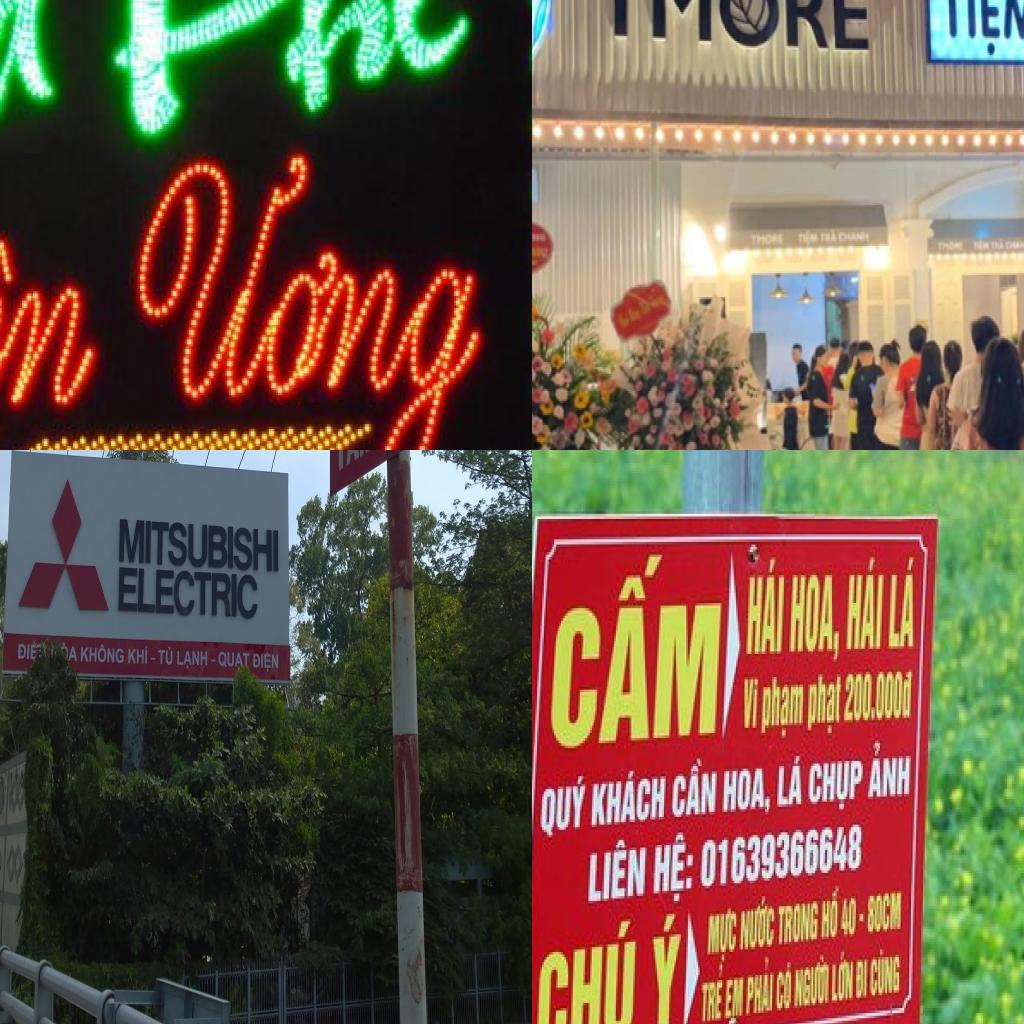text: (116, 131, 497, 450), (98, 0, 492, 148), (544, 542, 726, 753), (0, 162, 96, 450), (589, 0, 872, 56), (700, 822, 865, 893), (533, 919, 640, 1024), (117, 516, 280, 575), (117, 566, 259, 620), (932, 0, 1024, 58), (589, 766, 669, 832), (789, 570, 842, 669), (842, 547, 887, 656), (645, 911, 688, 1024), (584, 835, 648, 909), (744, 555, 788, 659), (842, 667, 914, 725), (806, 751, 866, 817), (537, 771, 588, 843), (669, 753, 719, 822), (652, 830, 696, 908), (757, 672, 806, 740), (888, 552, 920, 651), (864, 738, 912, 804), (721, 764, 772, 820), (806, 667, 846, 738), (704, 906, 740, 967), (793, 952, 830, 1011), (741, 894, 777, 954), (744, 952, 776, 1018), (779, 896, 820, 947), (866, 888, 904, 937), (774, 751, 804, 812), (701, 962, 727, 1024), (818, 883, 842, 942), (830, 947, 854, 1005), (741, 672, 762, 735), (334, 450, 377, 476), (80, 642, 124, 665), (777, 962, 794, 1016), (842, 894, 860, 940), (726, 975, 744, 1021), (176, 648, 209, 671), (854, 954, 870, 1000), (252, 650, 280, 674), (218, 650, 250, 670), (748, 234, 788, 249), (794, 230, 821, 250), (838, 231, 872, 246), (128, 644, 150, 667), (16, 639, 38, 661), (935, 241, 966, 256), (157, 645, 174, 668), (971, 239, 991, 255), (820, 231, 840, 246), (1005, 241, 1024, 253), (991, 239, 1007, 253), (68, 646, 78, 664)
